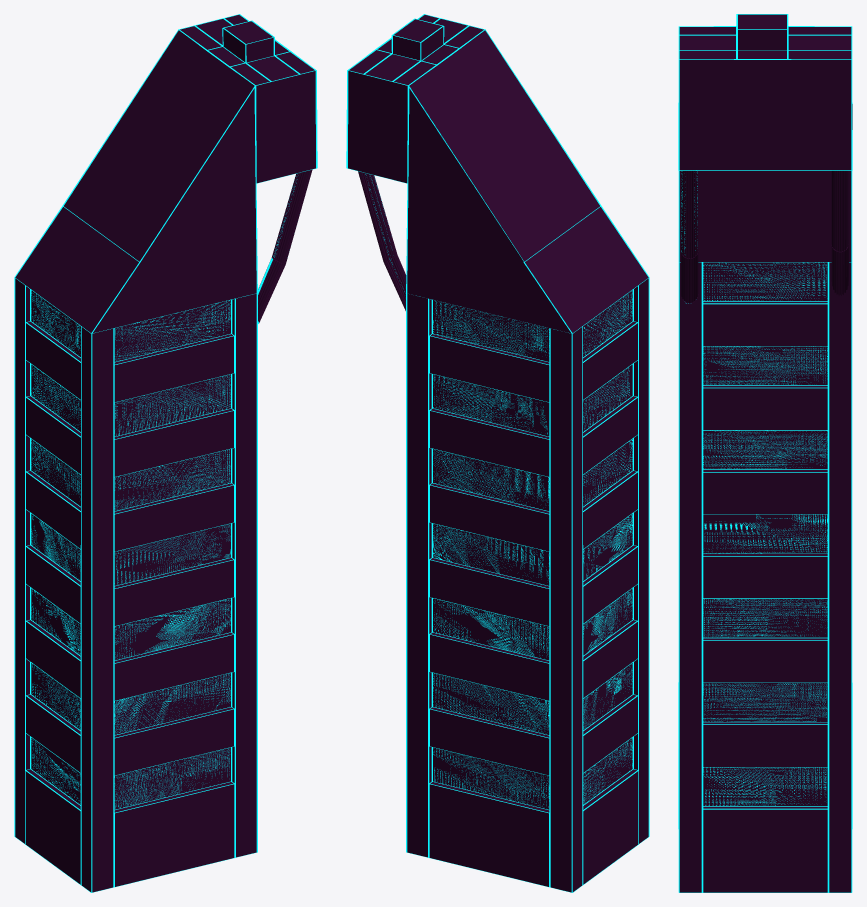
File: Skyscraper2 1.fbx
3 renders of one model, left to right at view 1: azimuth 30°, elevation 25°; view 2: azimuth 150°, elevation 25°; view 3: azimuth 270°, elevation 25°, orthographic. The views are drawn at different scales.
Parts seen in each view (by area): view 1: Plane.001, Plane.002; view 2: Plane.001, Plane.002; view 3: Plane.001, Plane.002.
Part boxes in pixels (box(x1,y1,x2,y2)): Plane.001: box(15, 15, 315, 892); Plane.002: box(14, 14, 317, 892); Plane.001: box(348, 15, 648, 892); Plane.002: box(346, 14, 649, 892); Plane.001: box(679, 14, 851, 892); Plane.002: box(678, 14, 852, 892).
Bounding box in the file's own units: 3792 × 12703 × 2243.
